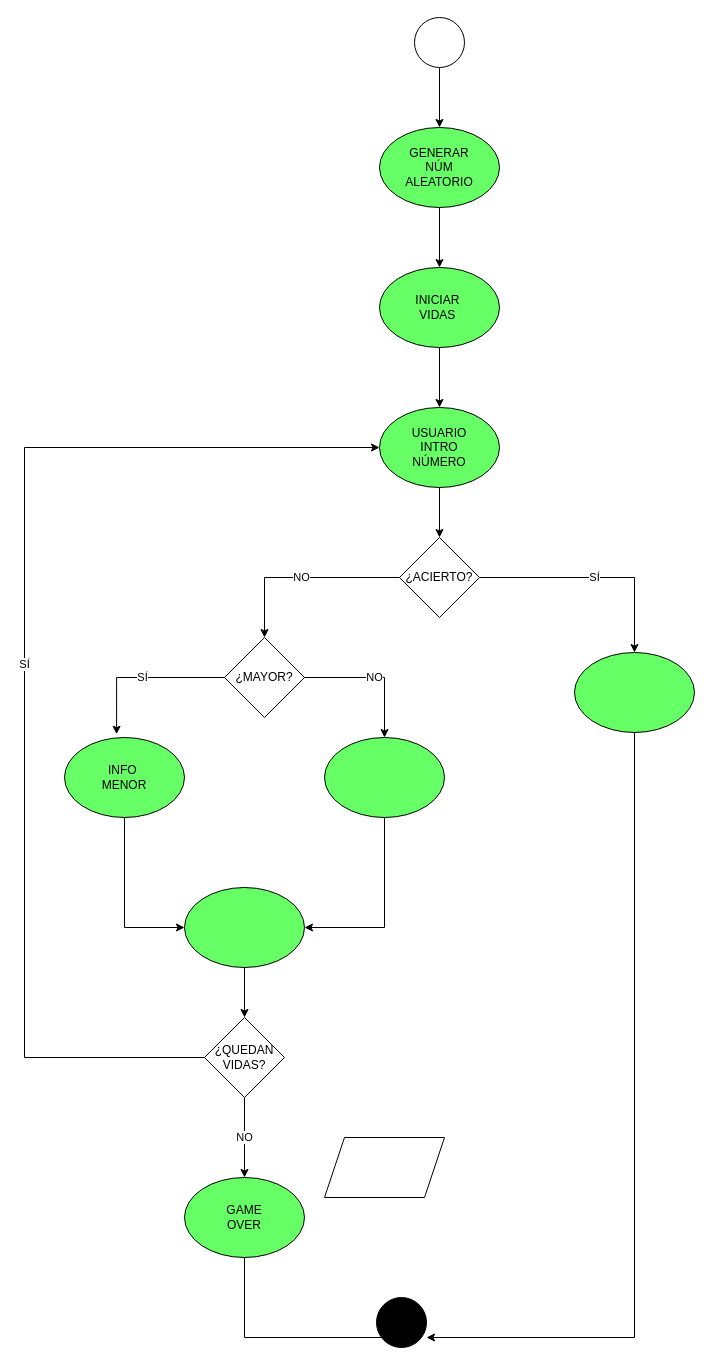
This 712x1366 diagram has some shape labels left out. The centre of each missing label's shape, as x and y in pixels:
ENHORABUENA: the point at 634,692
INFO MAYOR: the point at 384,777
Informo al usuario de la solución: the point at 384,1167
RESTAR VIDAS: the point at 244,927
